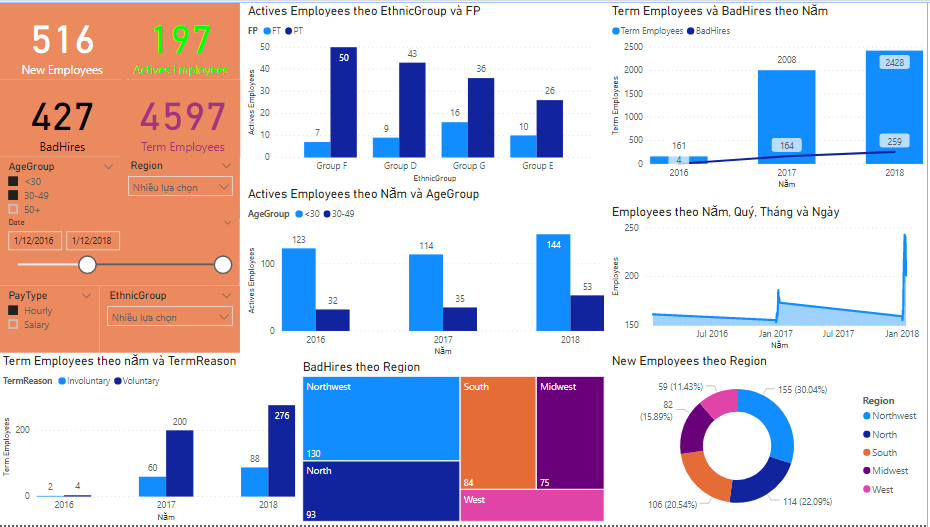

What the dashboard file says about the page in this screenshot:
{"tool":"powerbi","page":{"name":"HR Management","canvas":[1280,720],"ordinal":0},"visuals":[{"type":"clusteredColumnChart","fields":{"Category":["HR Data.EthnicGroup"],"Series":["HR Data.FP"],"Y":["Actives.Actives Employees"]},"box":[337.9,0,485.5,252.4],"z":0},{"type":"clusteredColumnChart","fields":{"Category":["HR Data.Date.Biến động.Phân cấp ngày tháng.Năm"],"Series":["HR Data.AgeGroup"],"Y":["Actives.Actives"]},"box":[337.9,252.4,502.1,238.6],"z":1000},{"type":"areaChart","fields":{"Category":["HR Data.Date.Biến động.Phân cấp ngày tháng.Năm","HR Data.Date.Biến động.Phân cấp ngày tháng.Quý","HR Data.Date.Biến động.Phân cấp ngày tháng.Tháng","HR Data.Date.Biến động.Phân cấp ngày tháng.Ngày"],"Y":["HR Data.EmpCounts"]},"box":[840,277.2,440,205.5],"z":2000},{"type":"lineStackedColumnComboChart","fields":{"Category":["HR Data.Date.Biến động.Phân cấp ngày tháng.Năm","HR Data.Date.Biến động.Phân cấp ngày tháng.Quý","HR Data.Date.Biến động.Phân cấp ngày tháng.Tháng","HR Data.Date.Biến động.Phân cấp ngày tháng.Ngày"],"Y":["Actives.Separations"],"Y2":["Sum(HR Data.BadHires)"]},"box":[840,0,440,260.7],"z":3000},{"type":"slicer","fields":{"Values":["HR Data.AgeGroup"]},"box":[0,212.4,169.7,84.1],"z":4000},{"type":"slicer","fields":{"Values":["HR Data.Date"]},"box":[0,291,332.4,99.3],"z":5000},{"type":"slicer","fields":{"Values":["HR Data.BU Region"]},"box":[168.3,211,164.1,85.5],"z":6000},{"type":"slicer","fields":{"Values":["HR Data.PayType"]},"box":[0,390.3,139.3,92.4],"z":7000},{"type":"treemap","fields":{"Group":["HR Data.BU Region"],"Values":["Sum(HR Data.BadHires)"]},"box":[413.8,491,426.2,229],"z":8000},{"type":"donutChart","fields":{"Category":["HR Data.BU Region"],"Y":["HR Data.Nhân viên mới"]},"box":[840,483,440,237],"z":9000},{"type":"card","fields":{"Values":["HR Data.Nhân viên mới"]},"box":[0,0,173.8,106.2],"z":10000},{"type":"card","fields":{"Values":["Actives.Actives Employees"]},"box":[168.3,0,164.1,106.2],"z":11000},{"type":"clusteredColumnChart","title":"Term Employees theo năm và TermReason","fields":{"Category":["HR Data.Date.Biến động.Phân cấp ngày tháng.Năm"],"Y":["Actives.Separations"],"Series":["HR Data.TermReason"]},"box":[0,482.8,413.8,237.2],"z":12000},{"type":"slicer","fields":{"Values":["HR Data.EthnicGroup"]},"box":[139.3,390.3,193.1,92.4],"z":13000},{"type":"card","fields":{"Values":["Sum(HR Data.BadHires)"]},"box":[0,106.2,173.8,106.2],"z":14000},{"type":"card","fields":{"Values":["Actives.Term Employees"]},"box":[173.8,106.2,158.6,106.2],"z":15000}]}

Visuals, with their boxes in screenshot pixels (x1, y1, x2, y2), scaled from the page's 1280x720 canvas onto the 930x527 screenshot:
clusteredColumnChart - HR Data.EthnicGroup x HR Data.FP: 246,0,598,185
clusteredColumnChart - HR Data.Date.Biến động.Phân cấp ngày tháng.Năm x HR Data.AgeGroup: 246,185,610,359
areaChart - HR Data.Date.Biến động.Phân cấp ngày tháng.Năm x HR Data.Date.Biến động.Phân cấp ngày tháng.Quý: 610,203,929,353
lineStackedColumnComboChart - HR Data.Date.Biến động.Phân cấp ngày tháng.Năm x HR Data.Date.Biến động.Phân cấp ngày tháng.Quý: 610,0,929,191
slicer - HR Data.AgeGroup: 0,155,123,217
slicer - HR Data.Date: 0,213,242,286
slicer - HR Data.BU Region: 122,154,242,217
slicer - HR Data.PayType: 0,286,101,353
treemap - HR Data.BU Region x Sum(HR Data.BadHires): 301,359,610,526
donutChart - HR Data.BU Region x HR Data.Nhân viên mới: 610,354,929,526
card - HR Data.Nhân viên mới: 0,0,126,78
card - Actives.Actives Employees: 122,0,242,78
"Term Employees theo năm và TermReason" clusteredColumnChart: 0,353,301,526
slicer - HR Data.EthnicGroup: 101,286,242,353
card - Sum(HR Data.BadHires): 0,78,126,155
card - Actives.Term Employees: 126,78,242,155
